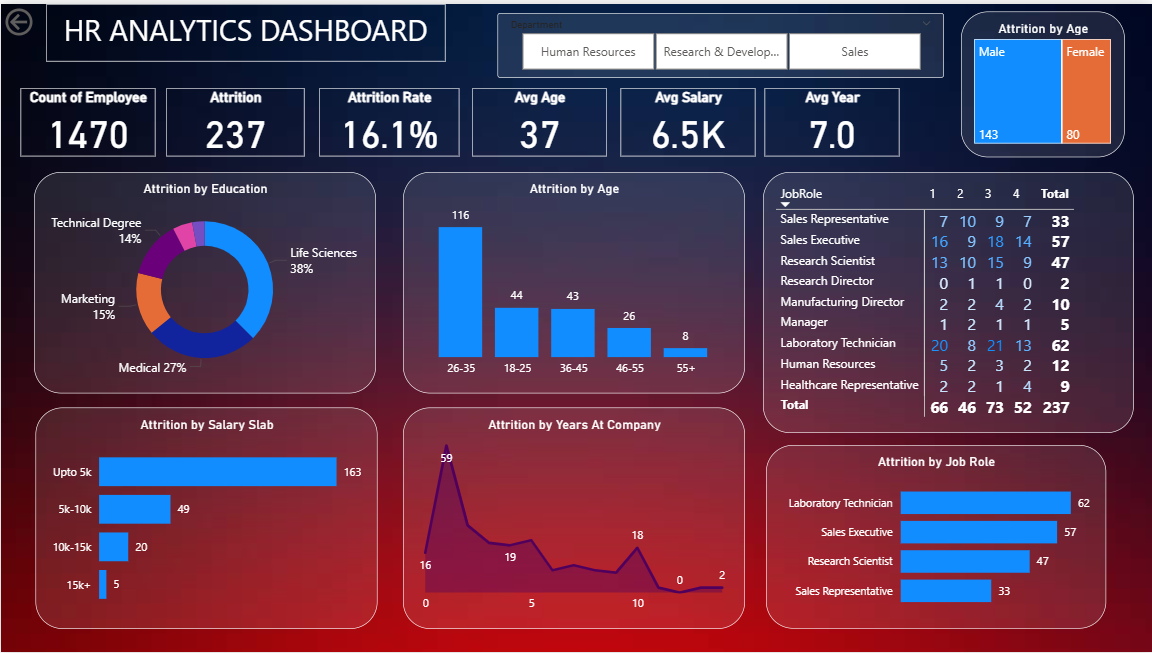

Layout of this report page (visuals, bound fields, positions):
{"tool":"powerbi","page":{"name":"Page 1","canvas":[1280,720],"ordinal":0},"visuals":[{"type":"card","title":" Count of Employee","fields":{"Values":["CountNonNull(HR_Analytics.EmpID)"]},"box":[22,94,150,76],"z":0},{"type":"card","title":"Avg Age","fields":{"Values":["Avg(HR_Analytics.Age)"]},"box":[524,94,150,76],"z":1000},{"type":"card","title":" Attrition","fields":{"Values":["Sum(HR_Analytics.AttritionCount)"]},"box":[184,94,154,76],"z":2000},{"type":"card","title":"Attrition Rate","fields":{"Values":["HR_Analytics.AttritionRate"]},"box":[354,94,156,76],"z":3000},{"type":"card","title":"Avg Salary","fields":{"Values":["Avg(HR_Analytics.MonthlyIncome)"]},"box":[688,94,150,76],"z":4000},{"type":"card","title":"Avg Year","fields":{"Values":["Avg(HR_Analytics.YearsAtCompany)"]},"box":[848,94,150,76],"z":5000},{"type":"donutChart","title":"Attrition  by Education","fields":{"Y":["Sum(HR_Analytics.AttritionCount)"],"Category":["HR_Analytics.EducationField"]},"box":[36,186,380,246],"z":6000},{"type":"columnChart","title":"Attrition  by Age","fields":{"Category":["HR_Analytics.AgeGroup"],"Y":["Sum(HR_Analytics.AttritionCount)"]},"box":[446,186,380,246],"z":7000},{"type":"pivotTable","fields":{"Rows":["HR_Analytics.JobRole"],"Columns":["HR_Analytics.JobSatisfaction"],"Values":["Sum(HR_Analytics.AttritionCount)"]},"box":[846,186,412,290],"z":8000},{"type":"barChart","title":"Attrition  by Salary Slab","fields":{"Category":["HR_Analytics.SalarySlab"],"Y":["Sum(HR_Analytics.AttritionCount)"]},"box":[38,448,380,246],"z":9000},{"type":"barChart","title":"Attrition  by Job Role","fields":{"Y":["Sum(HR_Analytics.AttritionCount)"],"Category":["HR_Analytics.JobRole"]},"box":[850,490,378,204],"z":10000},{"type":"areaChart","title":"Attrition  by Years At Company","fields":{"Category":["HR_Analytics.YearsAtCompany"],"Y":["Sum(HR_Analytics.AttritionCount)"]},"box":[446,448,380,246],"z":11000},{"type":"treemap","title":"Attrition  by Age","fields":{"Group":["HR_Analytics.Gender"],"Values":["Sum(HR_Analytics.AttritionCount)"]},"box":[1066,8,182,162],"z":12000},{"type":"slicer","fields":{"Values":["HR_Analytics.Department"]},"box":[552,10,496,72],"z":13000},{"type":"actionButton","box":[0,0,100,40],"z":14000},{"type":"textbox","box":[50,0,444,64],"z":15000}]}

Visuals, with their boxes in screenshot pixels (x1, y1, x2, y2), scaled from the page's 1280x720 canvas onto the 1152x653 screenshot:
" Count of Employee" card: rect(20, 85, 155, 154)
"Avg Age" card: rect(472, 85, 607, 154)
" Attrition" card: rect(166, 85, 304, 154)
"Attrition Rate" card: rect(319, 85, 459, 154)
"Avg Salary" card: rect(619, 85, 754, 154)
"Avg Year" card: rect(763, 85, 898, 154)
"Attrition  by Education" donutChart: rect(32, 169, 374, 392)
"Attrition  by Age" columnChart: rect(401, 169, 743, 392)
pivotTable - HR_Analytics.JobRole x HR_Analytics.JobSatisfaction: rect(761, 169, 1132, 432)
"Attrition  by Salary Slab" barChart: rect(34, 406, 376, 629)
"Attrition  by Job Role" barChart: rect(765, 444, 1105, 629)
"Attrition  by Years At Company" areaChart: rect(401, 406, 743, 629)
"Attrition  by Age" treemap: rect(959, 7, 1123, 154)
slicer - HR_Analytics.Department: rect(497, 9, 943, 74)
actionButton: rect(0, 0, 90, 36)
textbox: rect(45, 0, 445, 58)
